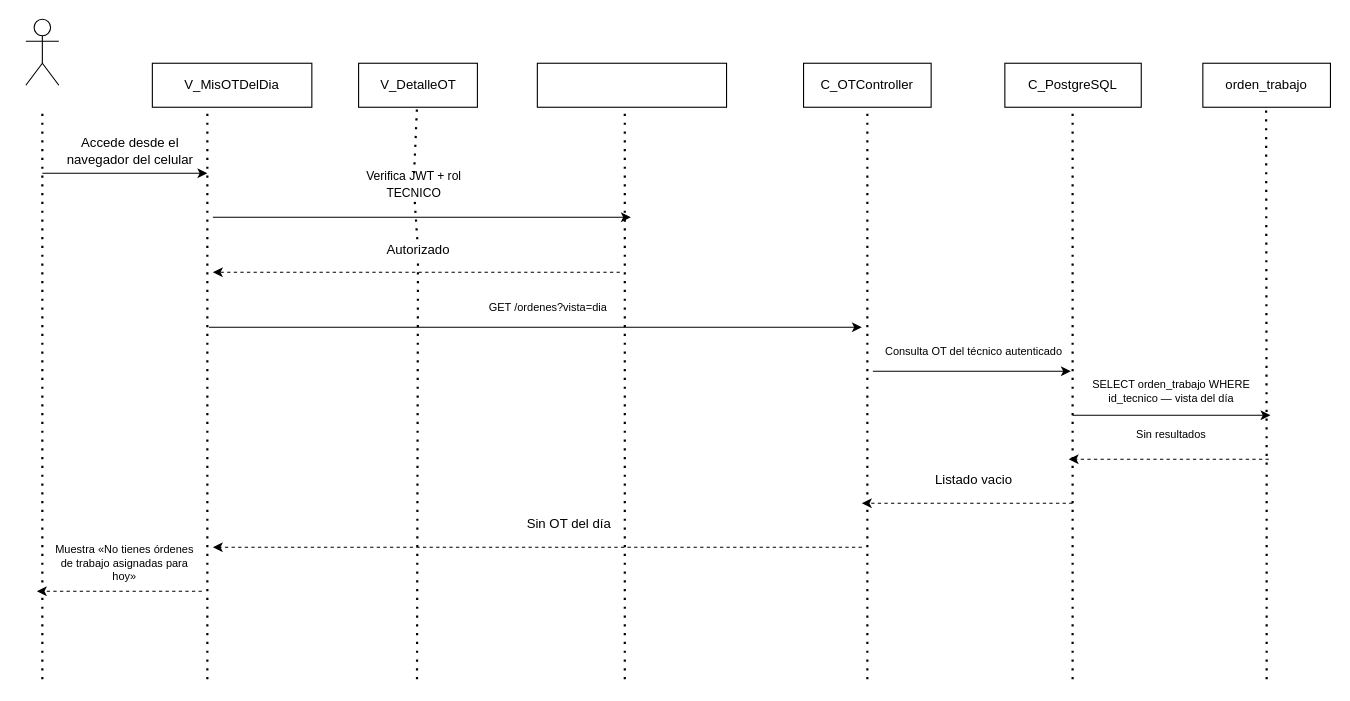
The diagram is 1350 pixels wide and 701 high, and some of its shapes have lost their labels. The centre of each missing label's shape, as x and y in pixels:
C_AuthGuard: pixel 631 84
Técnico: pixel 42 51
